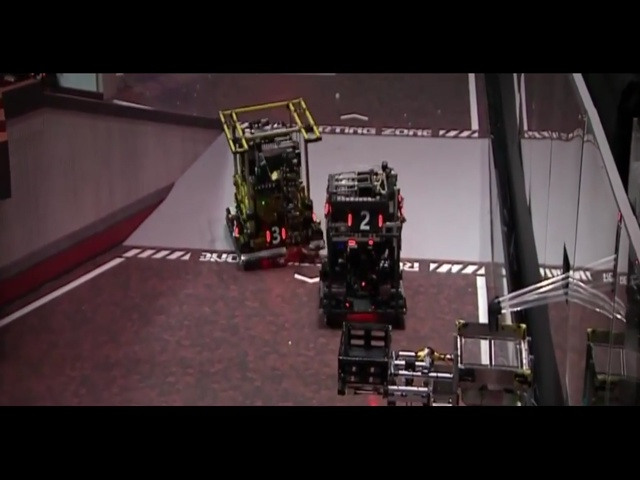bestBluePlate: (514, 321, 544, 351)
bestRedPlate: (232, 347, 270, 385)
bluePlate: (314, 177, 338, 201), (479, 161, 503, 185), (262, 243, 286, 267)
redPlate: (61, 246, 91, 276), (289, 344, 316, 371), (407, 187, 429, 209), (383, 188, 404, 209)
